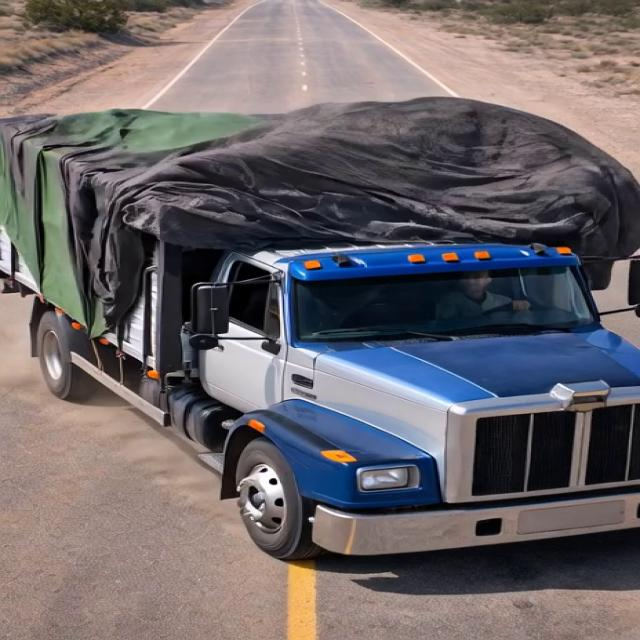Box: (11, 97, 596, 241)
Truck: (17, 71, 638, 550)
